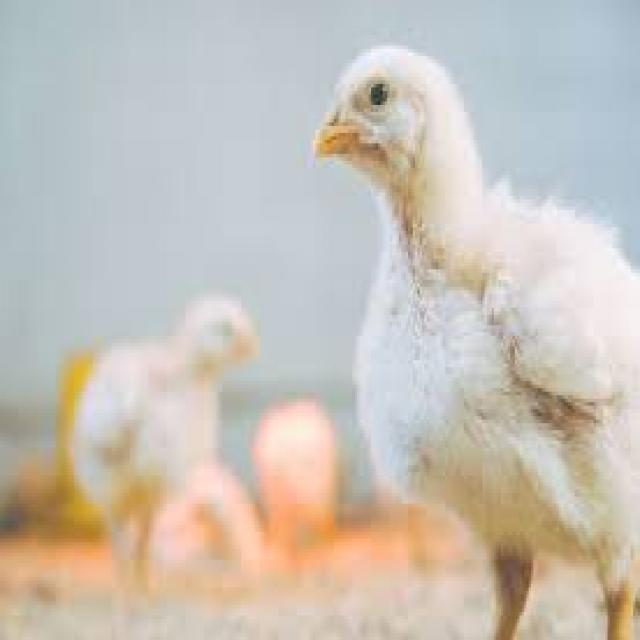poussin: (305, 37, 640, 639), (70, 296, 264, 602)
